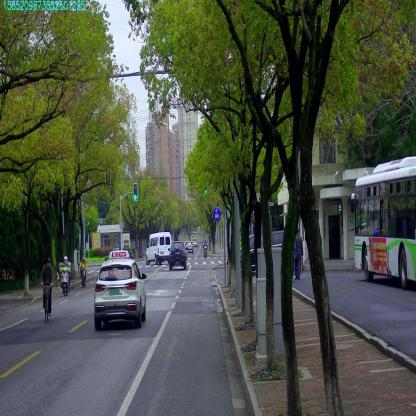traffic-light: (133, 184, 137, 200), (204, 183, 207, 195)
